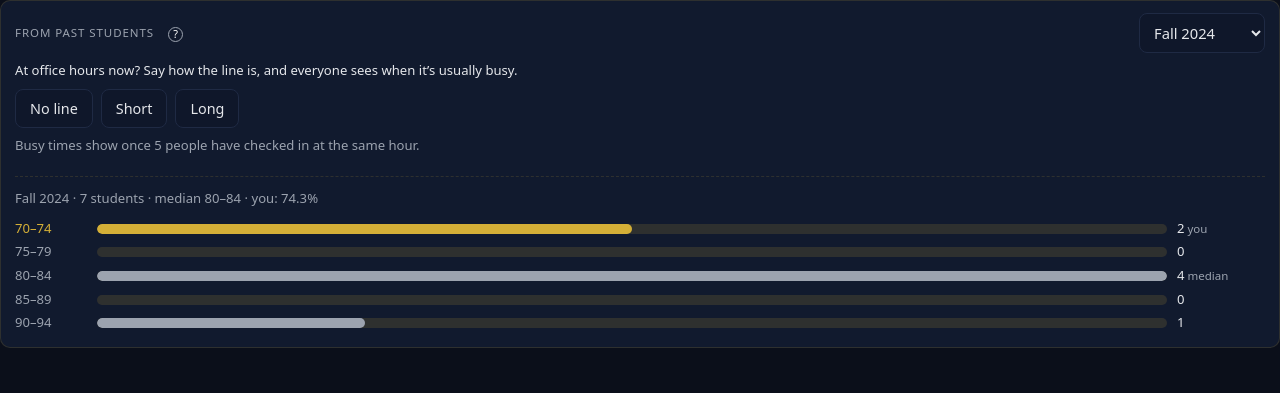
ClassFigures › checks in, shows where it counted, and undoes it
Click the button "Long".
click(208, 108)  # box [176,89,240,128]
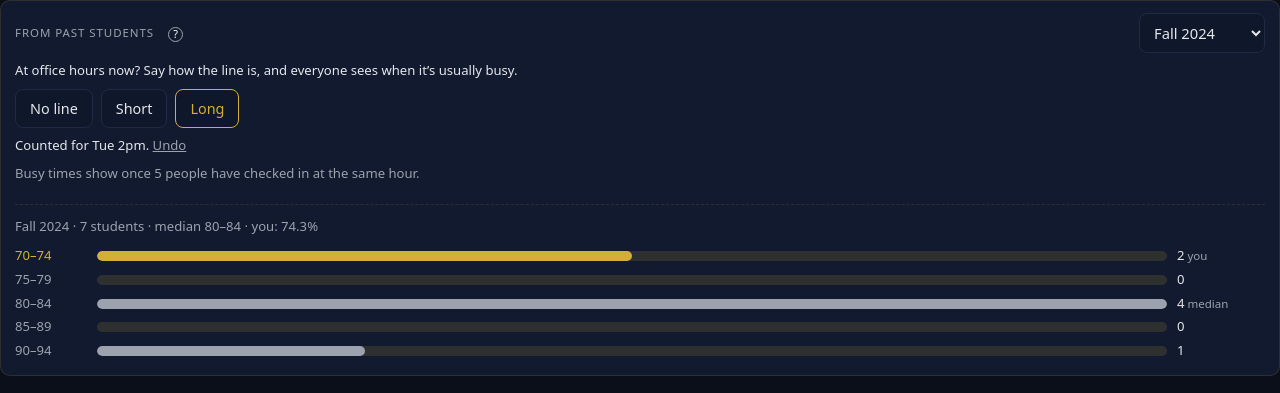
Now the text "Counted for Tue 2pm. Undo" is shown, box [15,136,186,156]
Click the button "Undo".
click(169, 146)  # box [153,136,186,156]
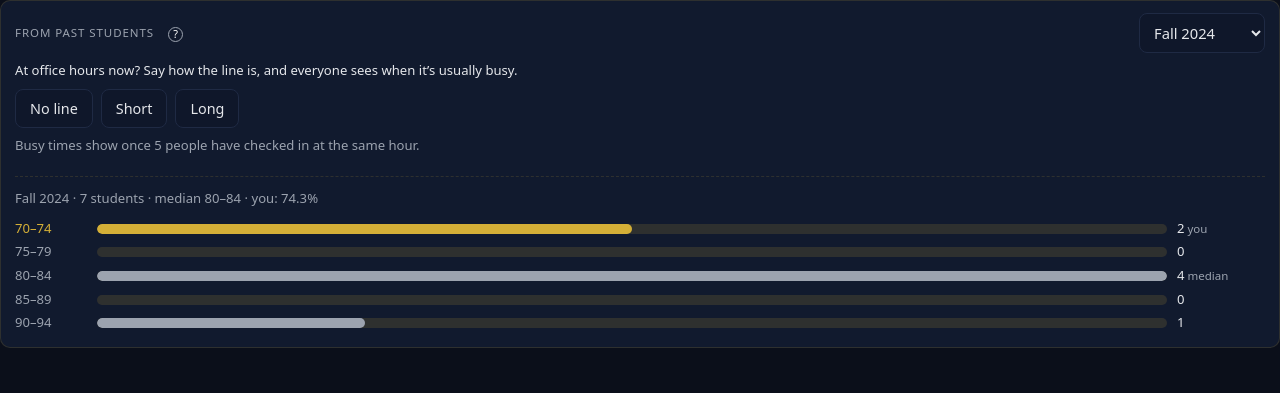
Now the text "Counted for" is gone
